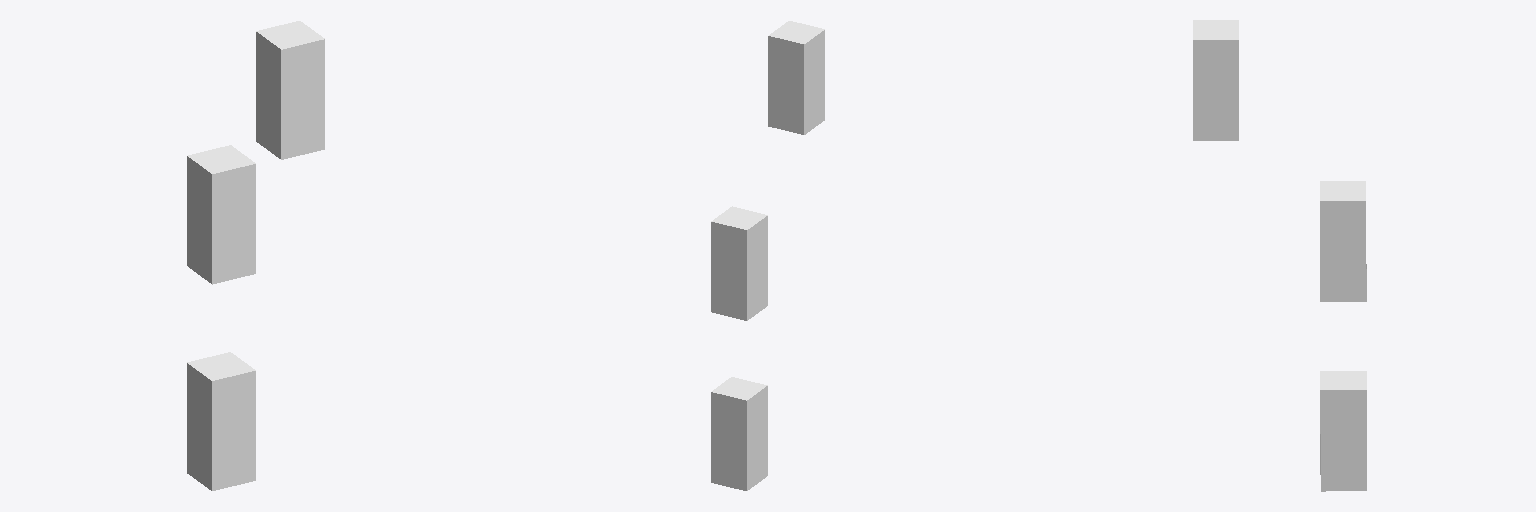
URDF robot description (manipulator):
<?xml version="1.0" encoding="utf-8"?>
<!-- =================================================================================== -->
<!-- |    This document was autogenerated by xacro from manipulator4.xacro             | -->
<!-- |    EDITING THIS FILE BY HAND IS NOT RECOMMENDED                                 | -->
<!-- =================================================================================== -->
<robot name="manipulator">
  <!--0.5624 height to start-->
  <material name="white">
    <color rgba="1 1 1 1"/>
  </material>
  <!-- MACROS -->
  <!-- LINKS -->
  <!-- the trans parameter present here is to toggle distance of current object with respect to previous adjacent object i.e. its parent-->
  <link name="base_link">
    <inertial>
      <origin rpy="0 0 0" xyz="0 0 0.5624"/>
      <mass value="0.00048"/>
      <inertia ixx="0.000050799110" ixy="0.0" ixz="0.0" iyy="0.00002857215" iyz="0.00000051457" izz="0.000043394"/>
    </inertial>
    <visual>
      <origin rpy="0 0 0" xyz="0 0 0.5624"/>
      <geometry>
        <box size="0.04 0.04 0.096"/>
      </geometry>
      <material name="white"/>
    </visual>
    <collision>
      <origin rpy="0 0 0" xyz="0 0 0.5624"/>
      <geometry>
        <box size="0.04 0.04 0.096"/>
      </geometry>
    </collision>
  </link>
  <link name="shoulder_yaw_motor">
    <inertial>
      <origin rpy="0 0 0 " xyz="0 0 0.0205"/>
      <mass value="0.140"/>
      <inertia ixx="0.000050799110" ixy="0.0" ixz="0.0" iyy="0.00002857215" iyz="0.00000051457" izz="0.000043394"/>
    </inertial>
    <visual>
      <origin rpy="0 0 0 " xyz="0 0 0.0205"/>
      <geometry>
        <mesh filename="package://mobile_manipulator/meshes/dynamixel_x64series.stl" scale="0.001 0.001 0.001"/>
      </geometry>
      <material name="white"/>
    </visual>
    <collision>
      <origin rpy="0 0 0" xyz="0 0 0.0205"/>
      <geometry>
        <mesh filename="package://mobile_manipulator/meshes/dynamixel_x64series.stl" scale="0.001 0.001 0.001"/>
      </geometry>
    </collision>
  </link>
  <link name="shoulder_roll_motor">
    <inertial>
      <origin rpy="0 0 0 " xyz="0 0.0481 0.0004"/>
      <mass value="0.140"/>
      <inertia ixx="0.000050799110" ixy="0.0" ixz="0.0" iyy="0.00002857215" iyz="0.00000051457" izz="0.000043394"/>
    </inertial>
    <visual>
      <origin rpy="0 0 0 " xyz="0 0.0481 0.0004"/>
      <geometry>
        <mesh filename="package://mobile_manipulator/meshes/dynamixel_x64series.stl" scale="0.001 0.001 0.001"/>
      </geometry>
      <material name="white"/>
    </visual>
    <collision>
      <origin rpy="0 0 0" xyz="0 0.0481 0.0004"/>
      <geometry>
        <mesh filename="package://mobile_manipulator/meshes/dynamixel_x64series.stl" scale="0.001 0.001 0.001"/>
      </geometry>
    </collision>
  </link>
  <link name="shoulder_pitch_motor">
    <inertial>
      <origin rpy="0 0 0" xyz="0 0.0481 0"/>
      <mass value="0.140"/>
      <inertia ixx="0.000050799110" ixy="0.0" ixz="0.0" iyy="0.00002857215" iyz="0.00000051457" izz="0.000043394"/>
    </inertial>
    <visual>
      <origin rpy="0.0 0.0 0" xyz="0 0.0481 0"/>
      <geometry>
        <mesh filename="package://mobile_manipulator/meshes/dynamixel_x64series.stl" scale="0.001 0.001 0.001"/>
      </geometry>
      <material name="white"/>
    </visual>
    <collision>
      <origin rpy="0 0 0" xyz="0 0.0481 0"/>
      <geometry>
        <mesh filename="package://mobile_manipulator/meshes/dynamixel_x64series.stl" scale="0.001 0.001 0.001"/>
      </geometry>
    </collision>
  </link>
  <link name="shoulder_bracket">
    <inertial>
      <origin rpy="0 0 0 " xyz="0 0 0.036"/>
      <mass value="0.00712"/>
      <inertia ixx="0.00000174511" ixy="0.0" ixz="0.0" iyy="0.00000379922" iyz="0.0" izz="0.00000357521"/>
    </inertial>
    <visual>
      <origin rpy="0 0 0 " xyz="0 0 0.036"/>
      <geometry>
        <mesh filename="package://mobile_manipulator/meshes/FR05-H101K.stl" scale="0.001 0.001 0.001"/>
      </geometry>
      <material name="white"/>
    </visual>
    <collision>
      <origin rpy="0 0 0 " xyz="0 0 0.036"/>
      <geometry>
        <mesh filename="package://mobile_manipulator/meshes/FR05-H101K.stl" scale="0.001 0.001 0.001"/>
      </geometry>
    </collision>
  </link>
  <link name="biscep">
    <inertial>
      <origin rpy="0 0 0" xyz="0 0 0.048"/>
      <mass value="0.00048"/>
      <inertia ixx="0.000050799110" ixy="0.0" ixz="0.0" iyy="0.00002857215" iyz="0.00000051457" izz="0.000043394"/>
    </inertial>
    <visual>
      <origin rpy="0 0 0" xyz="0 0 0.048"/>
      <geometry>
        <box size="0.04 0.04 0.096"/>
      </geometry>
      <material name="white"/>
    </visual>
    <collision>
      <origin rpy="0 0 0" xyz="0 0 0.048"/>
      <geometry>
        <box size="0.04 0.04 0.096"/>
      </geometry>
    </collision>
  </link>
  <link name="elbow_motor">
    <inertial>
      <origin rpy="0 0 0" xyz="0 0.0481 0"/>
      <mass value="0.140"/>
      <inertia ixx="0.000050799110" ixy="0.0" ixz="0.0" iyy="0.00002857215" iyz="0.00000051457" izz="0.000043394"/>
    </inertial>
    <visual>
      <origin rpy="0 0 0" xyz="0 0.0481 0"/>
      <geometry>
        <mesh filename="package://mobile_manipulator/meshes/dynamixel_x64series.stl" scale="0.001 0.001 0.001"/>
      </geometry>
      <material name="white"/>
    </visual>
    <collision>
      <origin rpy="0 0 0" xyz="0 0.0481 0"/>
      <geometry>
        <mesh filename="package://mobile_manipulator/meshes/dynamixel_x64series.stl" scale="0.001 0.001 0.001"/>
      </geometry>
    </collision>
  </link>
  <link name="elbow_bracket">
    <inertial>
      <origin rpy="0 0 0" xyz="0 0 0.036"/>
      <mass value="0.00712"/>
      <inertia ixx="0.00000174511" ixy="0.0" ixz="0.0" iyy="0.00000379922" iyz="0.0" izz="0.00000357521"/>
    </inertial>
    <visual>
      <origin rpy="0 0 0" xyz="0 0 0.036"/>
      <geometry>
        <mesh filename="package://mobile_manipulator/meshes/FR05-H101K.stl" scale="0.001 0.001 0.001"/>
      </geometry>
      <material name="white"/>
    </visual>
    <collision>
      <origin rpy="0 0 0" xyz="0 0 0.036"/>
      <geometry>
        <mesh filename="package://mobile_manipulator/meshes/FR05-H101K.stl" scale="0.001 0.001 0.001"/>
      </geometry>
    </collision>
  </link>
  <link name="forearm">
    <inertial>
      <origin rpy="0 0 0" xyz="0 0 0.048"/>
      <mass value="0.00048"/>
      <inertia ixx="0.000050799110" ixy="0.0" ixz="0.0" iyy="0.00002857215" iyz="0.00000051457" izz="0.000043394"/>
    </inertial>
    <visual>
      <origin rpy="0 0 0" xyz="0 0 0.048"/>
      <geometry>
        <box size="0.04 0.04 0.096"/>
      </geometry>
      <material name="white"/>
    </visual>
    <collision>
      <origin rpy="0 0 0" xyz="0 0 0.048"/>
      <geometry>
        <box size="0.04 0.04 0.096"/>
      </geometry>
    </collision>
  </link>
  <link name="wrist_bracket">
    <inertial>
      <origin rpy="0 0 0" xyz="0 0.052 0"/>
      <mass value="0.00712"/>
      <inertia ixx="0.00000174511" ixy="0.0" ixz="0.0" iyy="0.00000379922" iyz="0.0" izz="0.00000357521"/>
    </inertial>
    <visual>
      <origin rpy="0 0 0" xyz="0 0.052 0"/>
      <geometry>
        <mesh filename="package://mobile_manipulator/meshes/F4.stl" scale="0.001 0.001 0.001"/>
      </geometry>
      <material name="white"/>
    </visual>
    <collision>
      <origin rpy="0 0 0" xyz="0 0.052 0"/>
      <geometry>
        <mesh filename="package://mobile_manipulator/meshes/F4.stl" scale="0.001 0.001 0.001"/>
      </geometry>
    </collision>
  </link>
  <joint name="base_joint" type="fixed">
    <origin rpy="1.57 0 3.14" xyz="0 0.02 0.5624"/>
    <parent link="base_link"/>
    <child link="shoulder_yaw_motor"/>
  </joint>
  <joint name="shoulder_yaw" type="revolute">
    <origin rpy="1.57 0 0" xyz="0 0 0.041"/>
    <parent link="shoulder_yaw_motor"/>
    <child link="shoulder_roll_motor"/>
    <axis xyz="0 1 0"/>
    <limit effort="30" lower="-3.14" upper="3.14" velocity="1.0"/>
  </joint>
  <joint name="shoulder_roll" type="revolute">
    <origin rpy="1.57 0 1.57" xyz="0 0.0481 0.0205"/>
    <parent link="shoulder_roll_motor"/>
    <child link="shoulder_pitch_motor"/>
    <axis xyz="0 1 0"/>
    <limit effort="30" lower="-3.14" upper="3.14" velocity="1.0"/>
  </joint>
  <joint name="shoulder_pitch" type="revolute">
    <origin rpy="0 1.57 1.57" xyz="0 0.0481 0"/>
    <parent link="shoulder_pitch_motor"/>
    <child link="shoulder_bracket"/>
    <axis xyz="1 0 0"/>
    <limit effort="30" lower="-1.57" upper="1.57" velocity="1.0"/>
  </joint>
  <joint name="biceps_start" type="fixed">
    <origin rpy="0 0 3.14" xyz="0 0 0.036"/>
    <parent link="shoulder_bracket"/>
    <child link="biscep"/>
  </joint>
  <joint name="biceps_end" type="fixed">
    <origin rpy="1.57 0 3.14" xyz="0 0 0.096"/>
    <parent link="biscep"/>
    <child link="elbow_motor"/>
  </joint>
  <joint name="elbow_pitch" type="revolute">
    <origin rpy="0 1.57 1.57" xyz="0 0.0481 0"/>
    <parent link="elbow_motor"/>
    <child link="elbow_bracket"/>
    <axis xyz="1 0 0"/>
    <limit effort="30" lower="-1.57" upper="1.57" velocity="1.0"/>
  </joint>
  <joint name="forearm_start" type="fixed">
    <origin rpy="0 0 3.14" xyz="0 0 0.036"/>
    <parent link="elbow_bracket"/>
    <child link="forearm"/>
  </joint>
  <joint name="forearm_end" type="fixed">
    <origin rpy="1.57 0 1.57" xyz="0 0 0.096"/>
    <parent link="forearm"/>
    <child link="wrist_bracket"/>
  </joint>
</robot>

--- Facts derived from the render (not from the file) ---
3 views of the same robot in one strip: view 1: azimuth 30°, elevation 25°; view 2: azimuth 150°, elevation 25°; view 3: azimuth 270°, elevation 25° (orthographic).
Robot: manipulator — 10 links, 9 joints (4 revolute, 5 fixed); root link base_link; default pose: every joint at zero.
Visible links, largest first — view 1: base_link, biscep, forearm; view 2: base_link, biscep, forearm; view 3: forearm, biscep, base_link.
Boxes of the visible links, <box> form: base_link: <box>256,21,324,159</box>; biscep: <box>187,145,255,284</box>; forearm: <box>187,352,255,490</box>; base_link: <box>768,21,824,134</box>; biscep: <box>711,206,767,320</box>; forearm: <box>711,377,767,490</box>; forearm: <box>1320,371,1366,491</box>; biscep: <box>1320,181,1366,301</box>; base_link: <box>1193,20,1238,140</box>.
Bounding box of the posed robot: 0.0404 × 0.15 × 0.4287 m (x, y, z).
Meshes: 3 distinct files referenced, 0 mesh visuals loaded (none loaded); not drawn: 7 (reference not matched to a file when rendering).